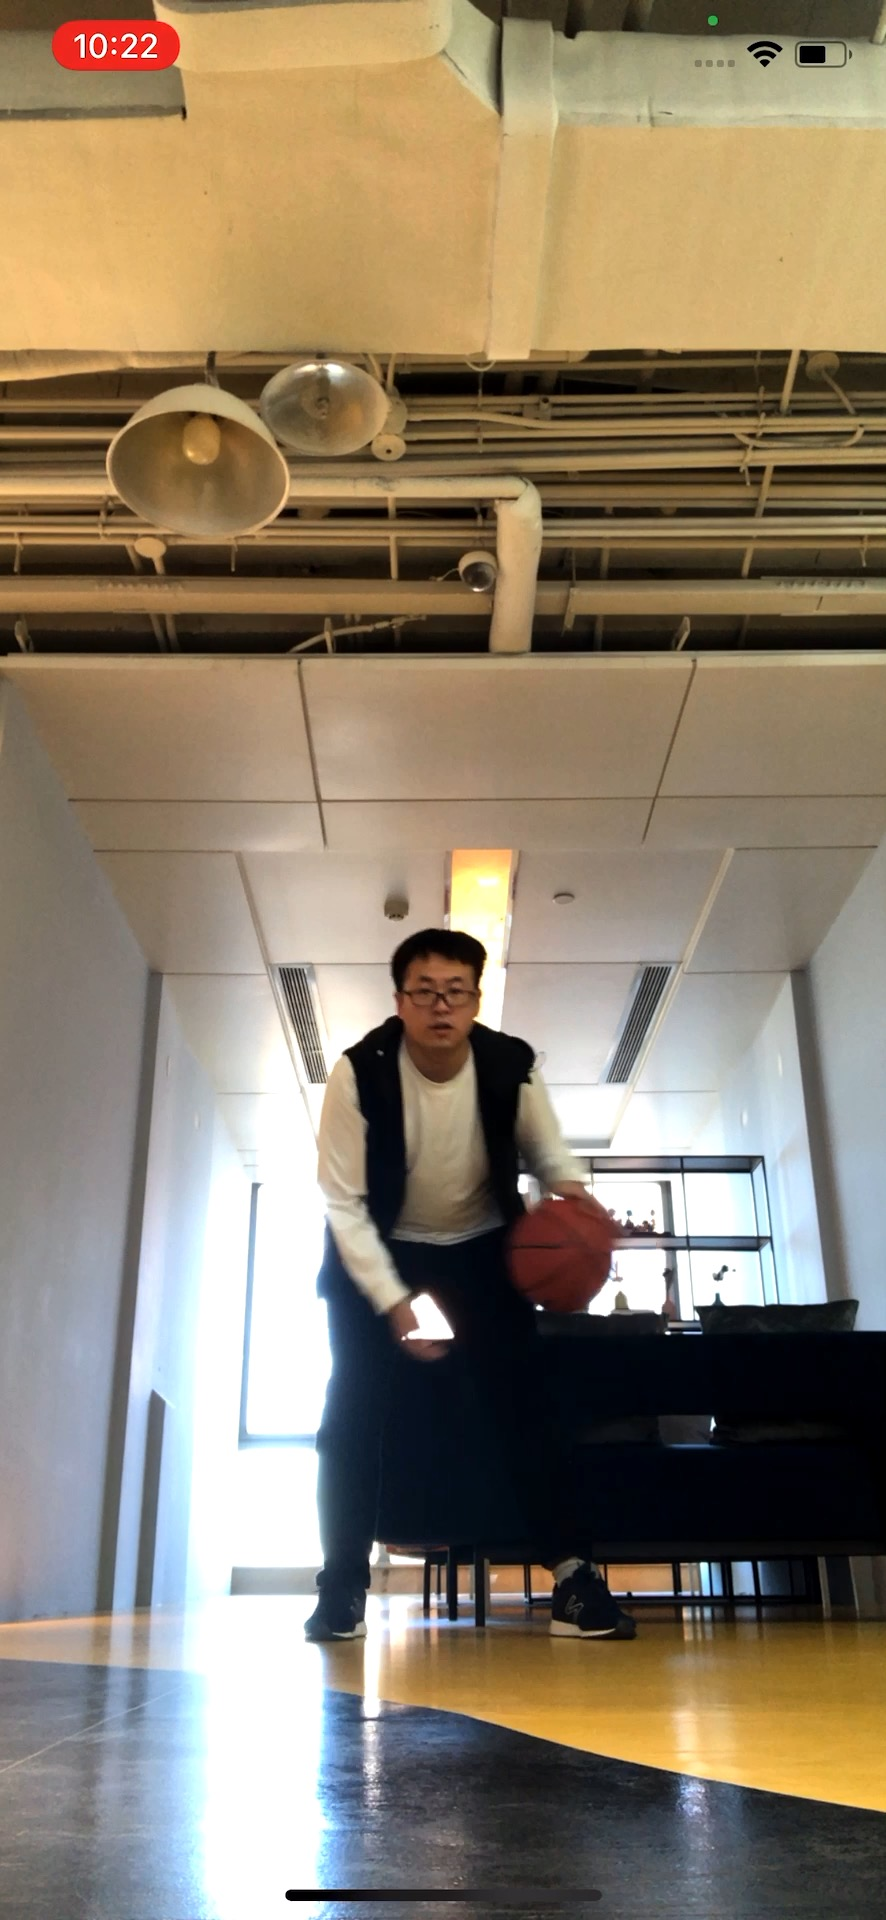ball: (512, 1196, 616, 1310)
